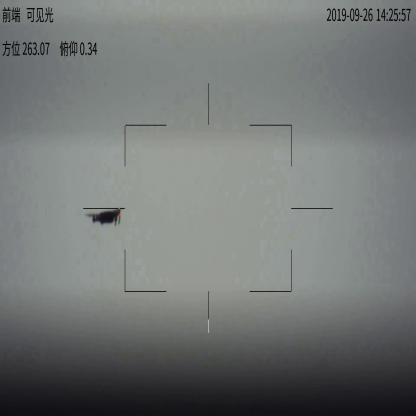uav: (85, 206, 125, 228)
